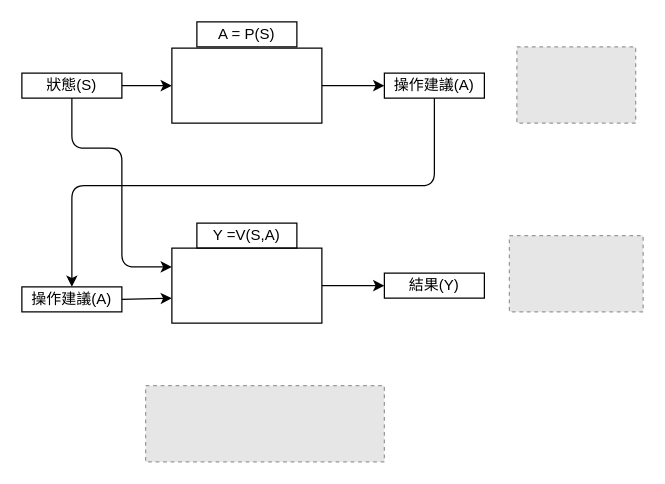
The diagram is 665 pixels wide and 484 high, and some of its shapes have lost their labels. Grey dashed boxes stand in for pictures. The centre of each missing label's shape, as x and y in pixels:
模型P: the point at 246,85
模型V: the point at 246,285
